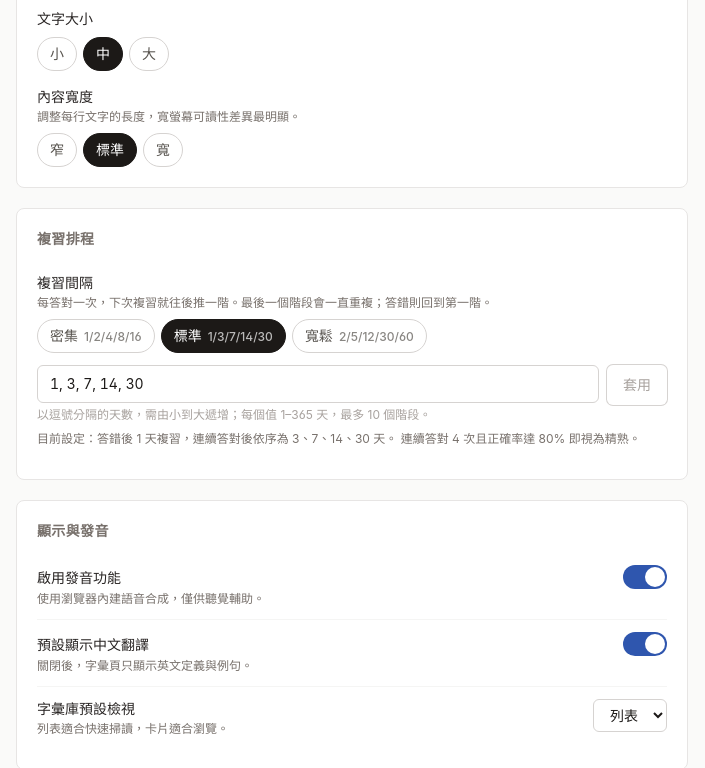
it: SettingsPage › rejects a non-increasing ladder without changing the setting
(page scrolled)
In the field named "自訂複習間隔（天數，以逗號分隔）": {"x": 318, "y": 384} x1=37 y1=365 x2=599 y2=403, type "10, 3"
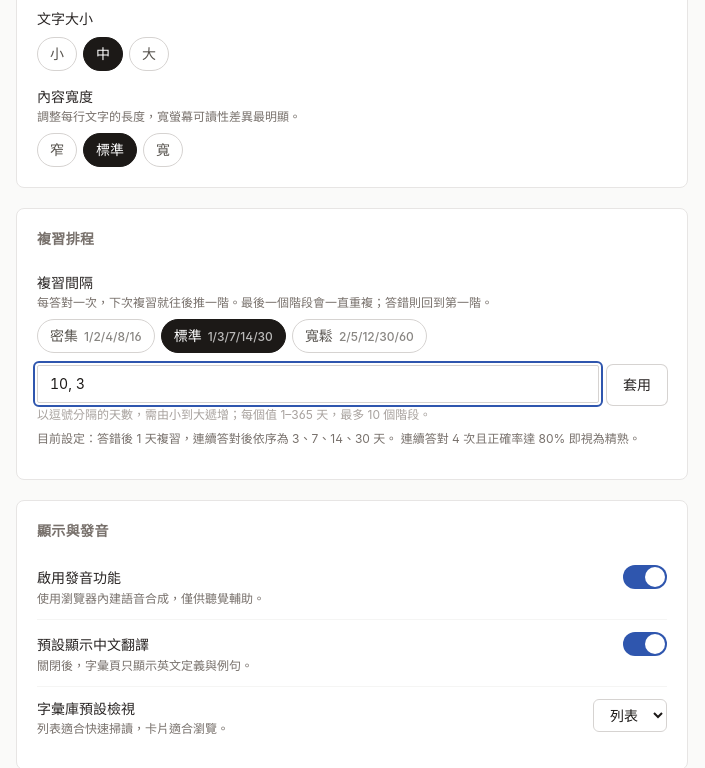
Click the button "套用": {"x": 637, "y": 385} x1=607 y1=365 x2=667 y2=405
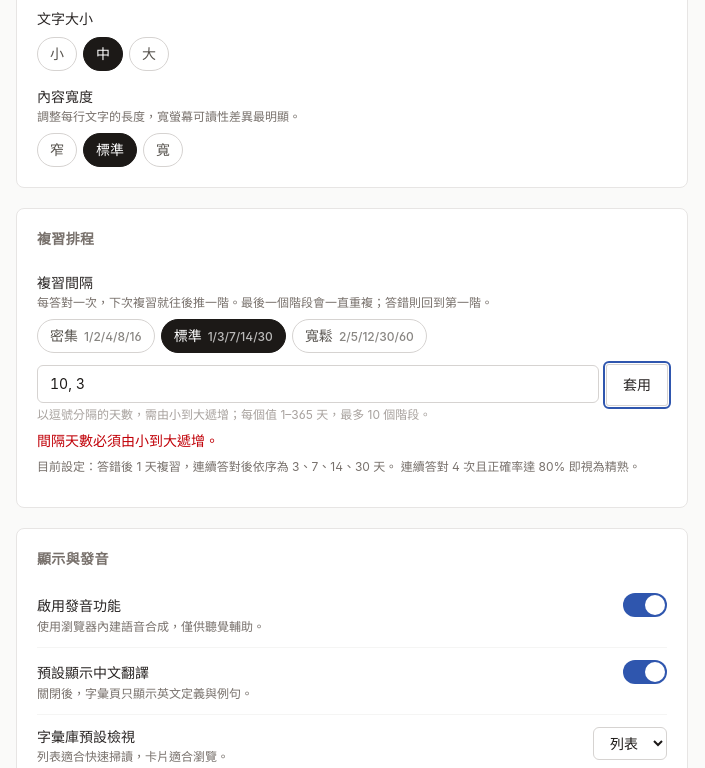
Result: the message shows "遞增" at x1=37 y1=432 x2=219 y2=449
